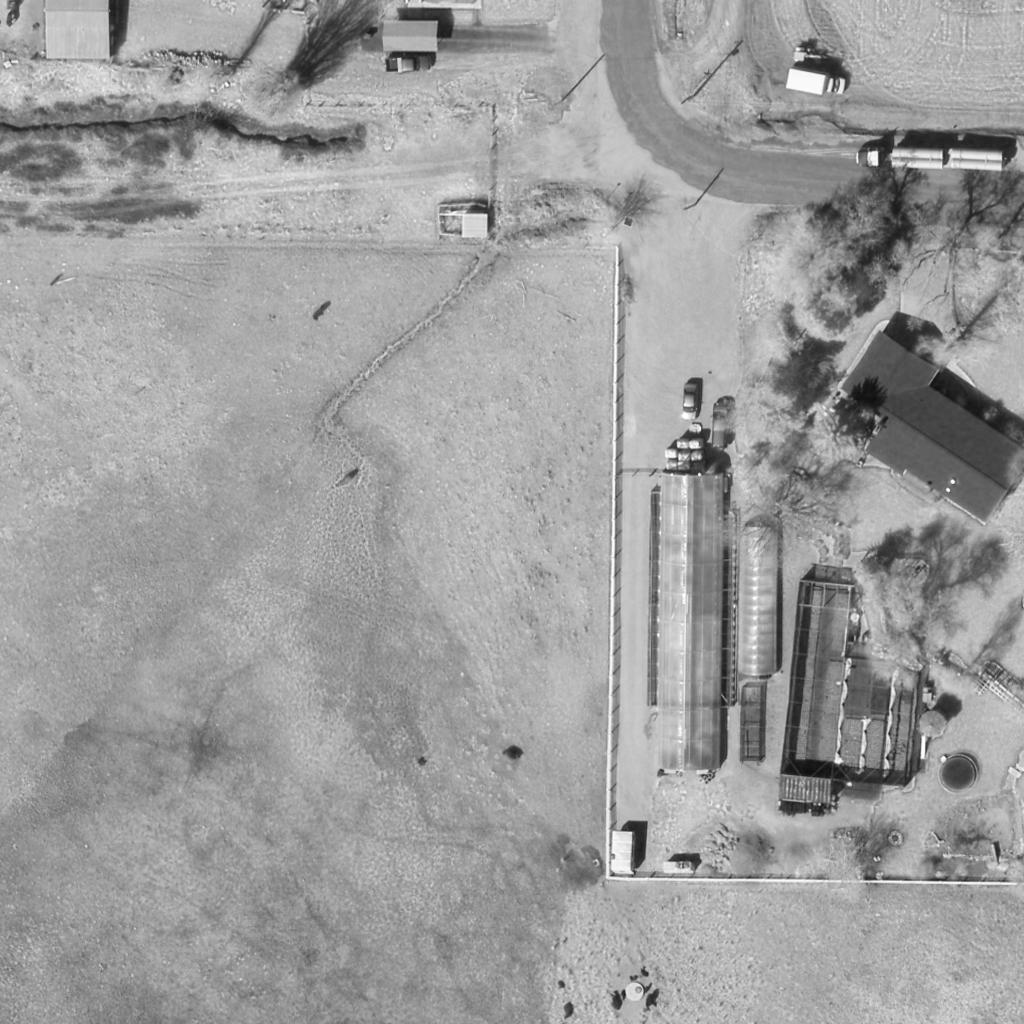vehicle: (854, 147, 1008, 171), (786, 67, 846, 101), (712, 401, 734, 451), (384, 56, 434, 74), (793, 46, 829, 70), (682, 383, 700, 419)
